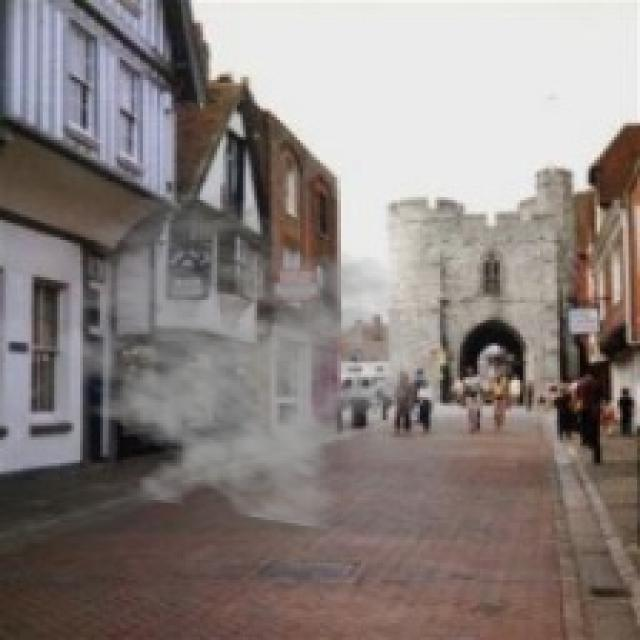Smoke: (26, 188, 443, 532)
